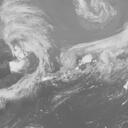cyclone: (2, 25, 51, 102), (61, 43, 113, 84), (73, 0, 115, 24)
